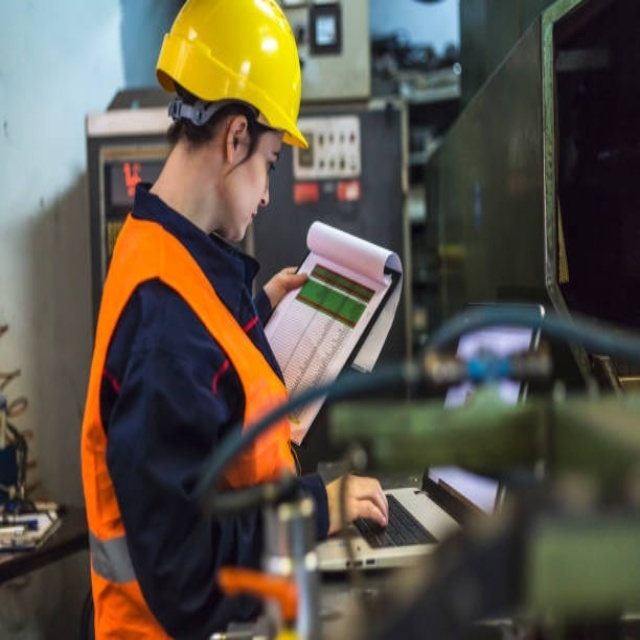Sin_gafas: (256, 144, 280, 179)
Sin_guantes: (334, 472, 390, 532), (263, 266, 310, 315)
Sin_mascara: (229, 198, 266, 238)
